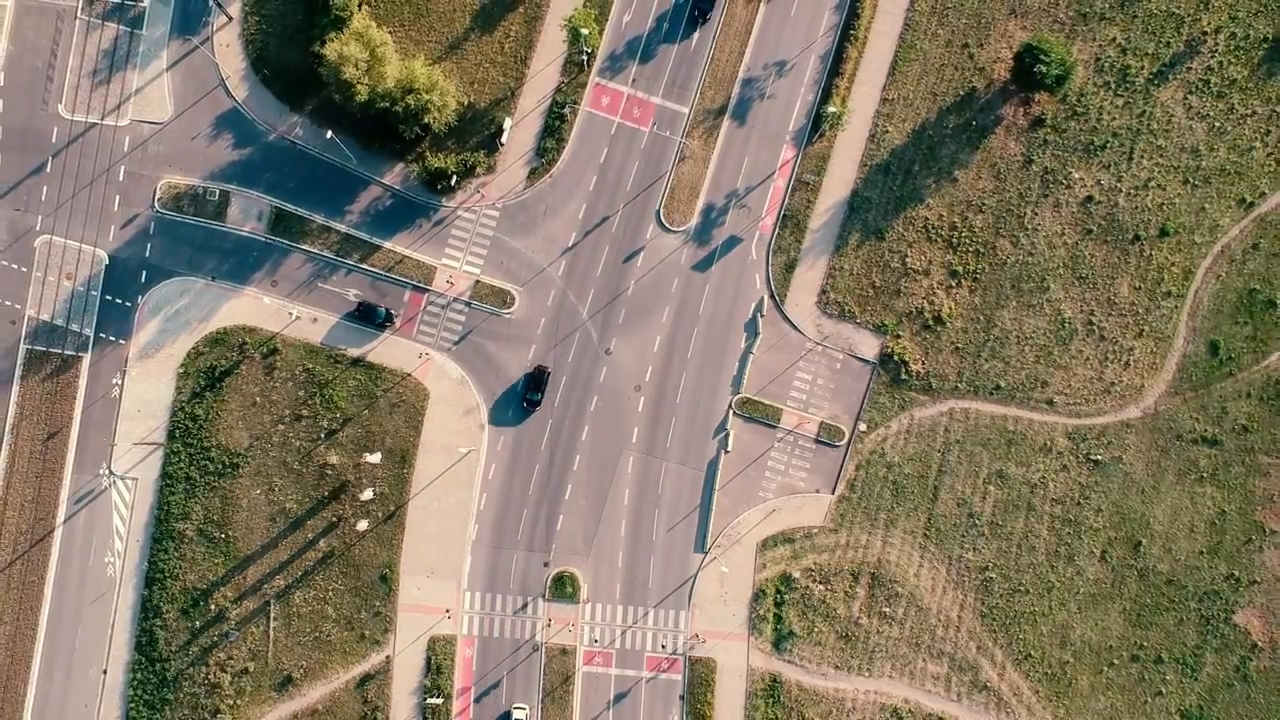car: (520, 362, 551, 411), (353, 297, 399, 330), (509, 699, 529, 720)
